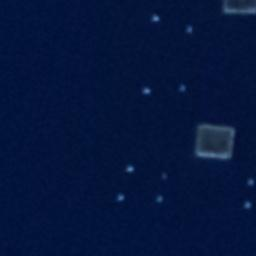square_cover: (192, 119, 239, 166)
